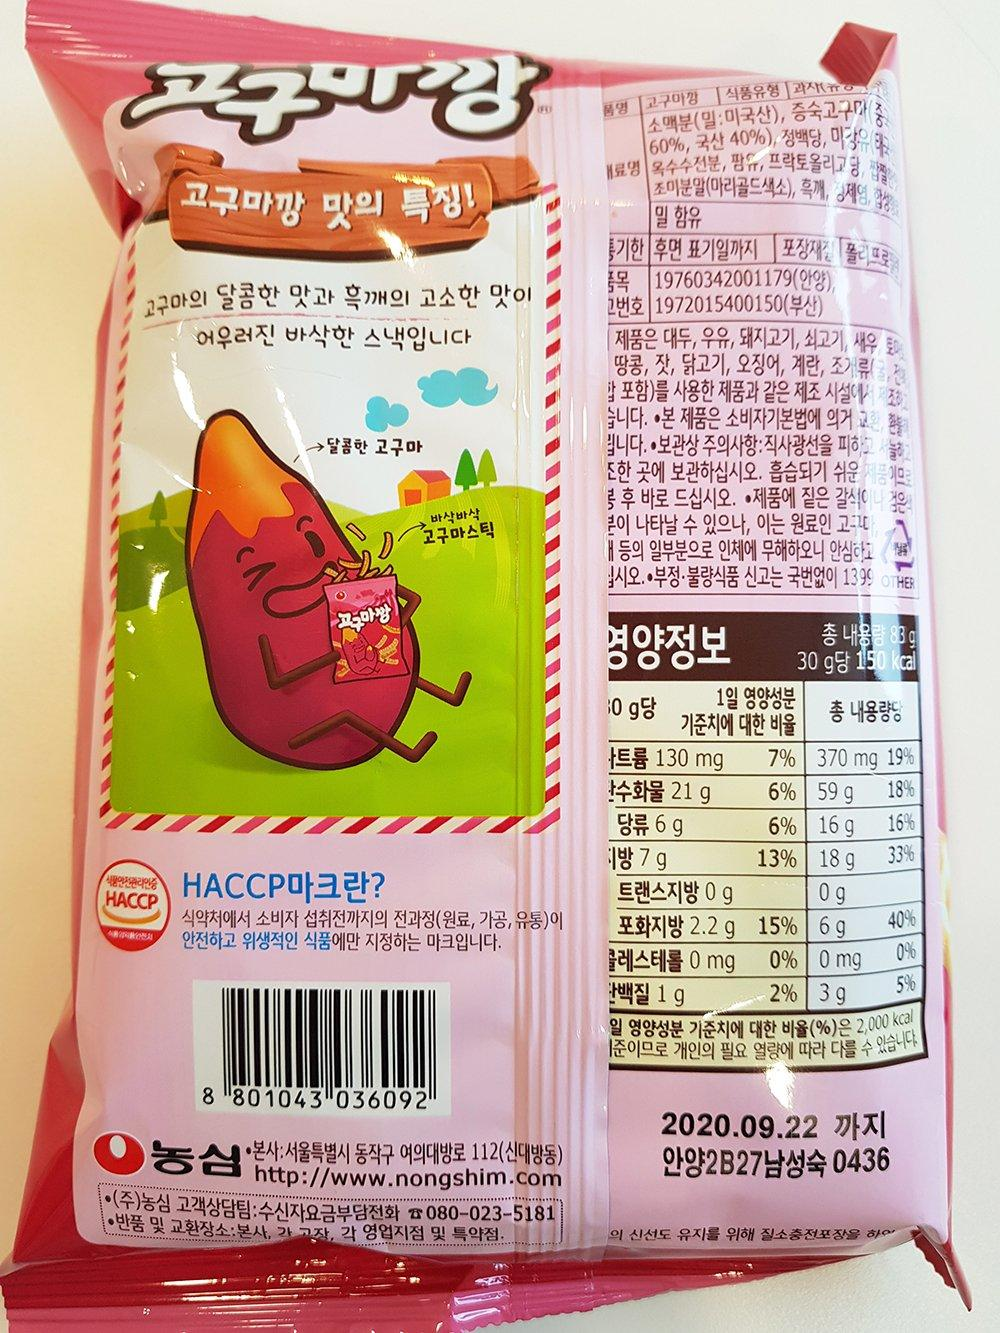snack: (0, 0, 979, 1333)
